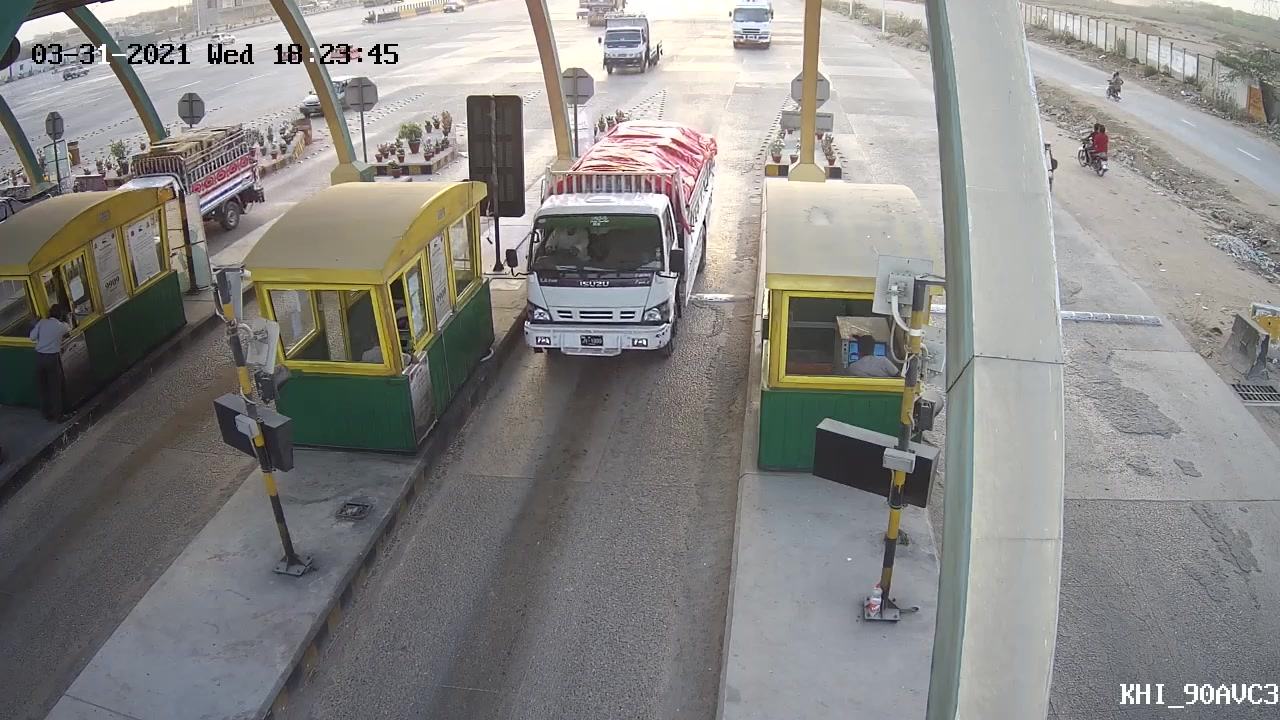F3: (503, 117, 723, 368)
